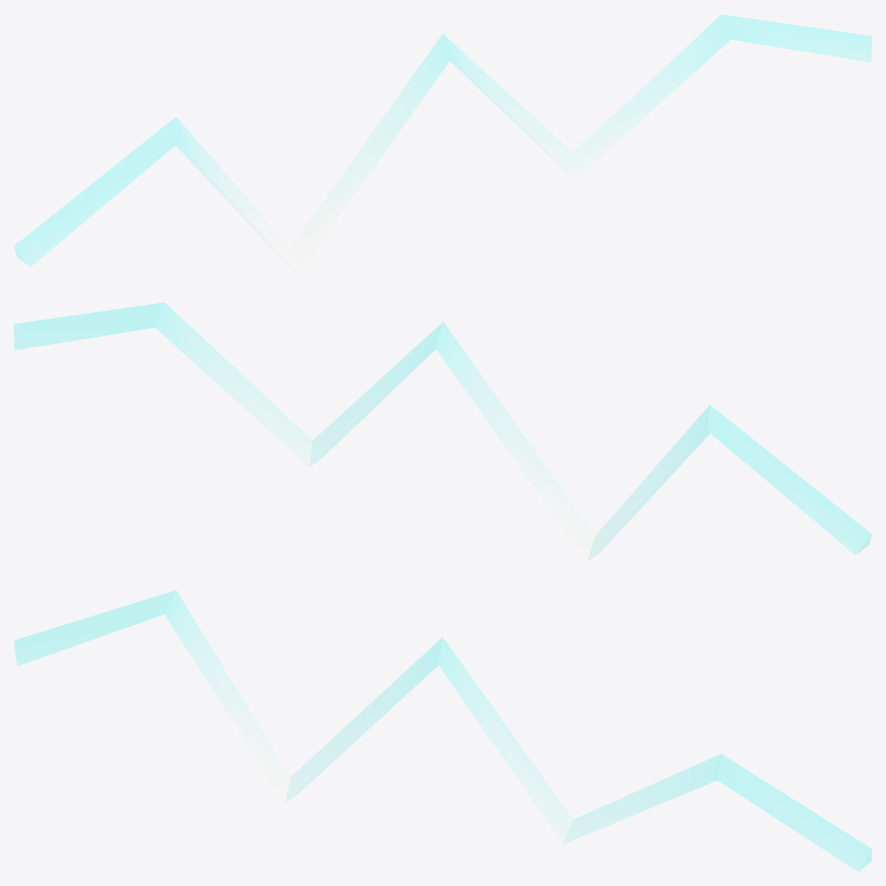
File: SM_JellyArc.fbx
The picture shows the model from 3 angles, top to bottom: view 1: azimuth 30°, elevation 25°; view 2: azimuth 150°, elevation 25°; view 3: azimuth 330°, elevation 25°; orthographic projection.
Visible parts, largest first — view 1: SM_JellyArc; view 2: SM_JellyArc; view 3: SM_JellyArc.
Part boxes in pixels (<box>): SM_JellyArc: <box>14,14,871,273</box>; SM_JellyArc: <box>14,302,871,561</box>; SM_JellyArc: <box>14,590,871,871</box>.
Bounding box in the file's own units: 101 × 2.77 × 22.39.
